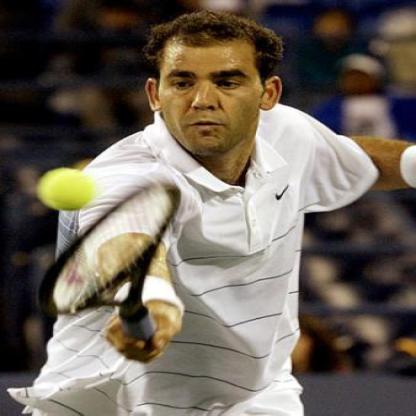face: (158, 21, 266, 158)
